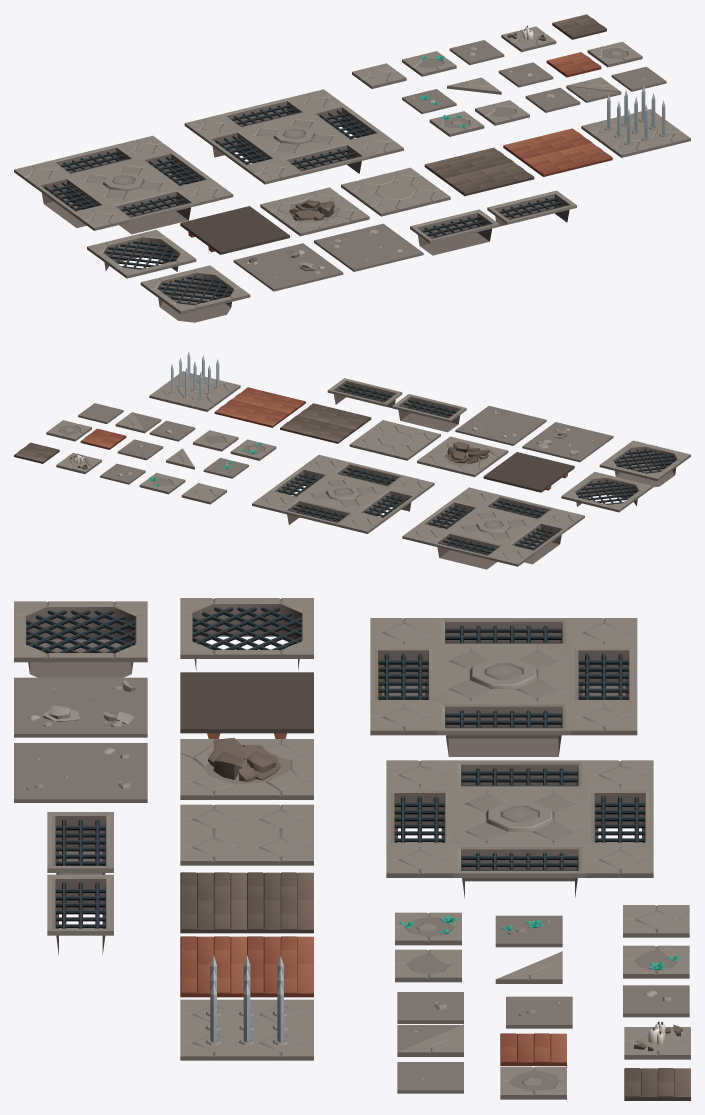
The model's file is floors_dungeon_game_assets.glb.
The picture shows the model from 3 angles, top to bottom: view 1: azimuth 30°, elevation 25°; view 2: azimuth 150°, elevation 25°; view 3: azimuth 270°, elevation 25°; orthographic projection. The views are drawn at different scales.
Visible parts, largest first — view 1: floor_tile_extralarge_grates, floor_tile_extralarge_grates_open, floor_tile_big_grate, ceiling_tile, floor_tile_large_rocks, floor_tile_large, floor_tile_big_grate_open, floor_wood_large, floor_wood_large_dark, floor_dirt_large_rocky, floor_dirt_large, floor_tile_big_spikes (+18 smaller); view 2: floor_tile_extralarge_grates, floor_tile_extralarge_grates_open, floor_tile_big_grate, ceiling_tile, floor_tile_large_rocks, floor_tile_large, floor_tile_big_grate_open, floor_wood_large_dark, floor_wood_large, floor_dirt_large, floor_dirt_large_rocky, floor_tile_big_spikes (+17 smaller); view 3: floor_tile_extralarge_grates, floor_tile_extralarge_grates_open, floor_tile_big_grate, ceiling_tile, floor_tile_large, floor_wood_large_dark, floor_tile_large_rocks, floor_dirt_large_rocky, floor_dirt_large, floor_tile_big_grate_open, floor_wood_large, floor_tile_big_spikes (+18 smaller).
Part boxes in pixels (x1,y1,x2,y2): floor_tile_extralarge_grates: (14,135,233,234); floor_tile_extralarge_grates_open: (184,89,403,184); floor_tile_big_grate: (140,265,250,322); ceiling_tile: (180,206,289,254); floor_tile_large_rocks: (260,187,369,236); floor_tile_large: (341,167,450,216); floor_tile_big_grate_open: (87,229,196,278); floor_wood_large: (503,128,612,176); floor_wood_large_dark: (424,147,534,196); floor_dirt_large_rocky: (233,243,343,291); floor_dirt_large: (314,223,423,271); floor_tile_big_spikes: (581,109,690,157); floor_tile_extralarge_grates: (402,487,584,569); floor_tile_extralarge_grates_open: (252,454,434,533); floor_tile_big_grate: (599,440,690,487); ceiling_tile: (483,452,574,492); floor_tile_large_rocks: (417,436,508,477); floor_tile_large: (349,420,440,460); floor_tile_big_grate_open: (561,471,652,512); floor_wood_large_dark: (280,403,371,443); floor_wood_large: (214,387,305,427); floor_dirt_large: (455,406,546,445); floor_dirt_large_rocky: (522,422,613,462); floor_tile_big_spikes: (149,371,240,411); floor_tile_extralarge_grates: (370,618,637,756); floor_tile_extralarge_grates_open: (386,760,653,898); floor_tile_big_grate: (14,601,147,677); ceiling_tile: (180,672,313,739); floor_tile_large: (180,804,313,865); floor_wood_large_dark: (180,872,313,933); floor_tile_large_rocks: (180,738,313,799); floor_dirt_large_rocky: (14,677,147,737); floor_dirt_large: (14,743,147,802); floor_tile_big_grate_open: (180,598,313,670); floor_wood_large: (180,936,313,997); floor_tile_big_spikes: (180,999,313,1060).
Bounding box in the file's own units: 35.31 × 3 × 20.28.
29 materials, 29 textured.
